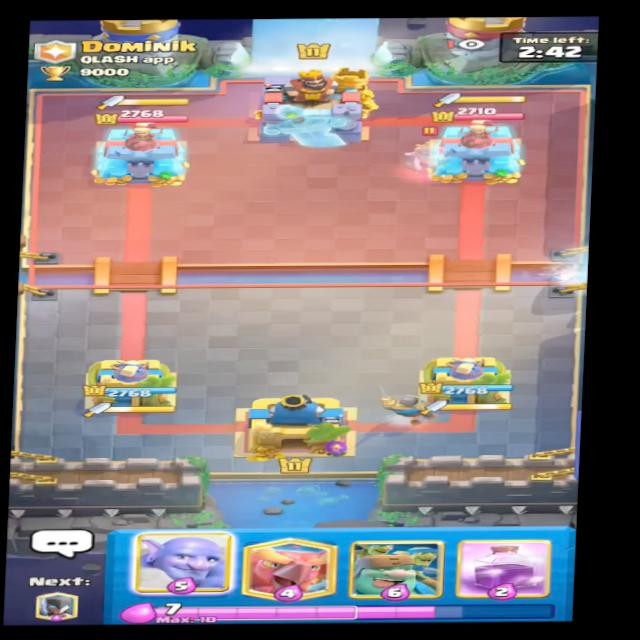royal-ghost: (395, 130, 451, 178)
